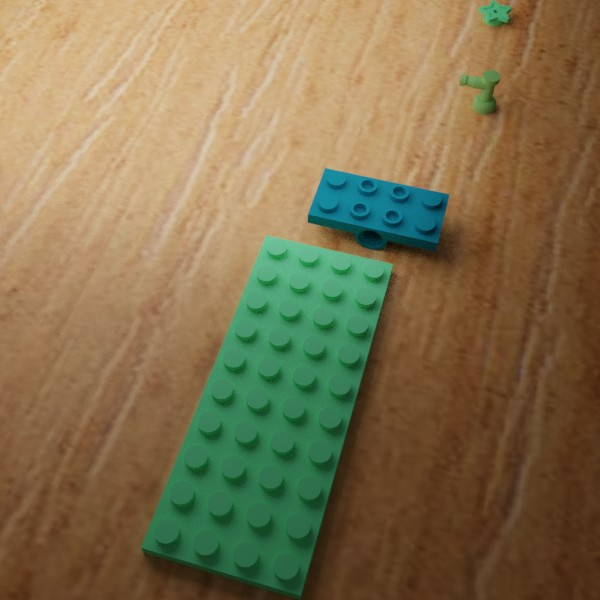lego: (140, 235, 393, 600), (307, 167, 449, 251), (459, 69, 500, 114), (477, 0, 511, 25)
